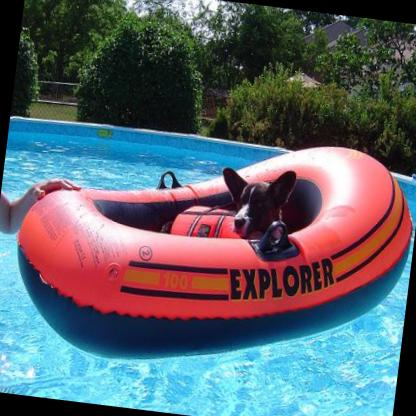Cardigan: (213, 160, 297, 244)
